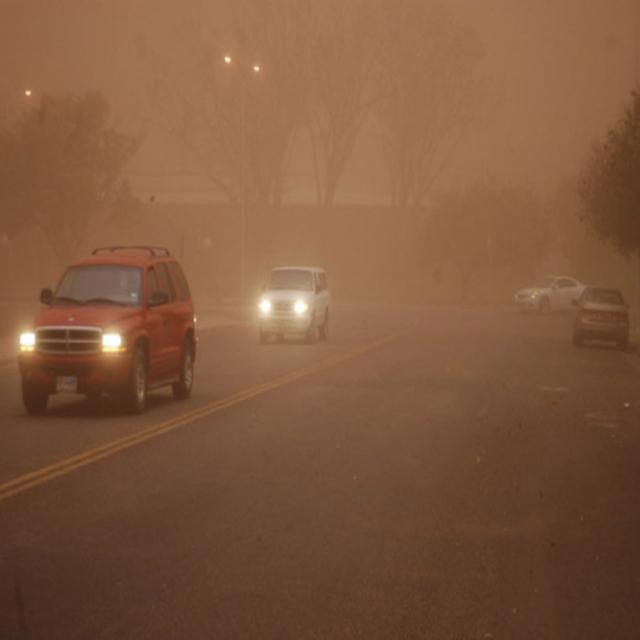car: (16, 246, 202, 417), (258, 264, 332, 343), (570, 286, 630, 352), (518, 277, 581, 313)
